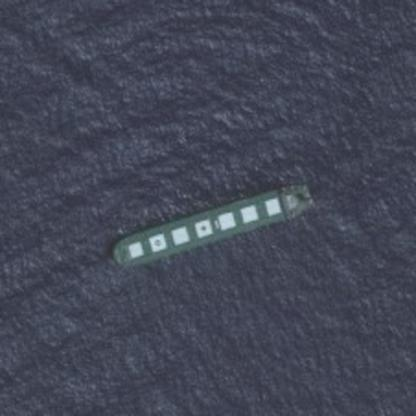ship: (102, 177, 318, 270)
